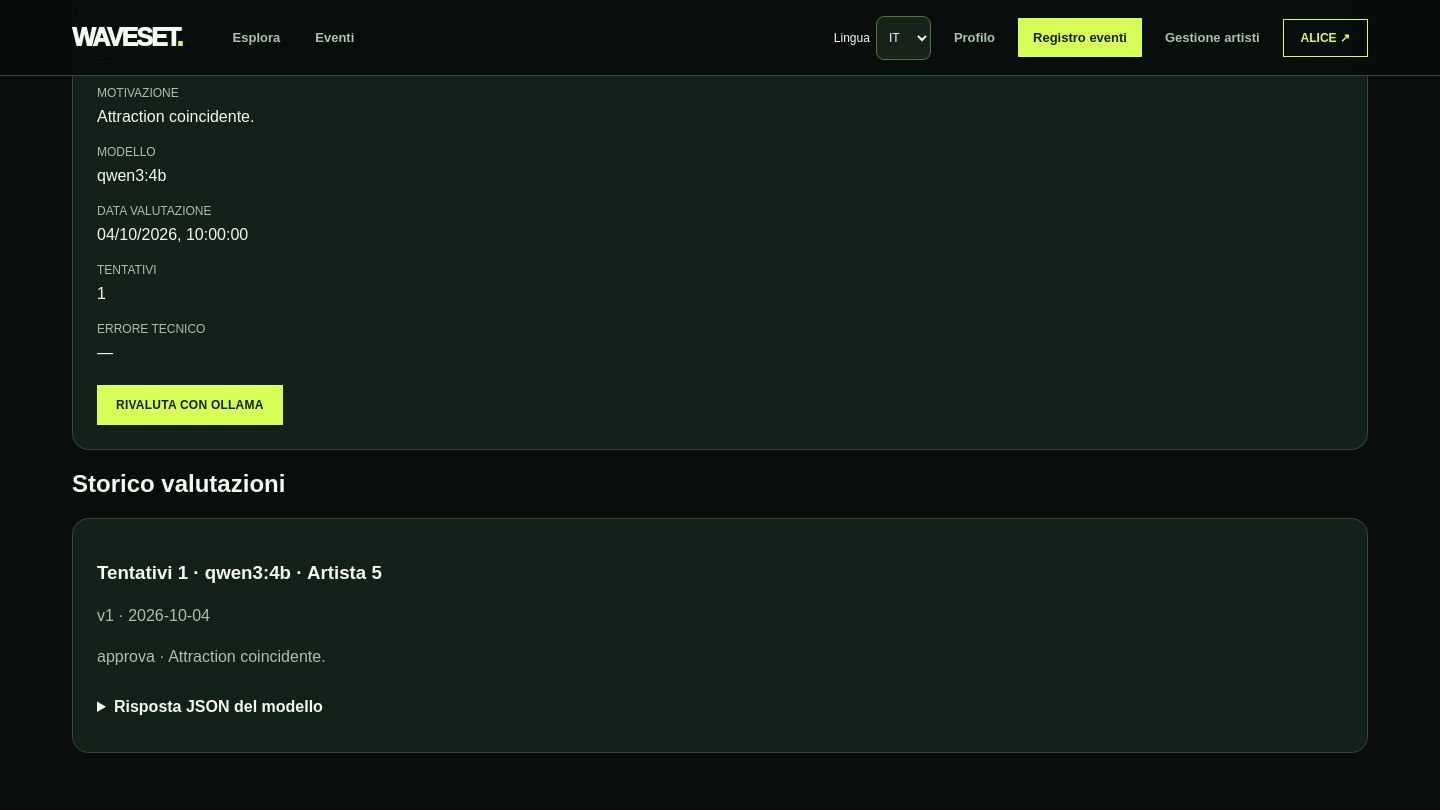
dettaglio con audit, rivalutazione 202 e CSRF, nessuna pubblicazione manuale
The width and height of the screenshot is (1440, 810).
(page scrolled)
Click the button "Rivaluta con Ollama": (190, 405) [97, 385, 283, 426]
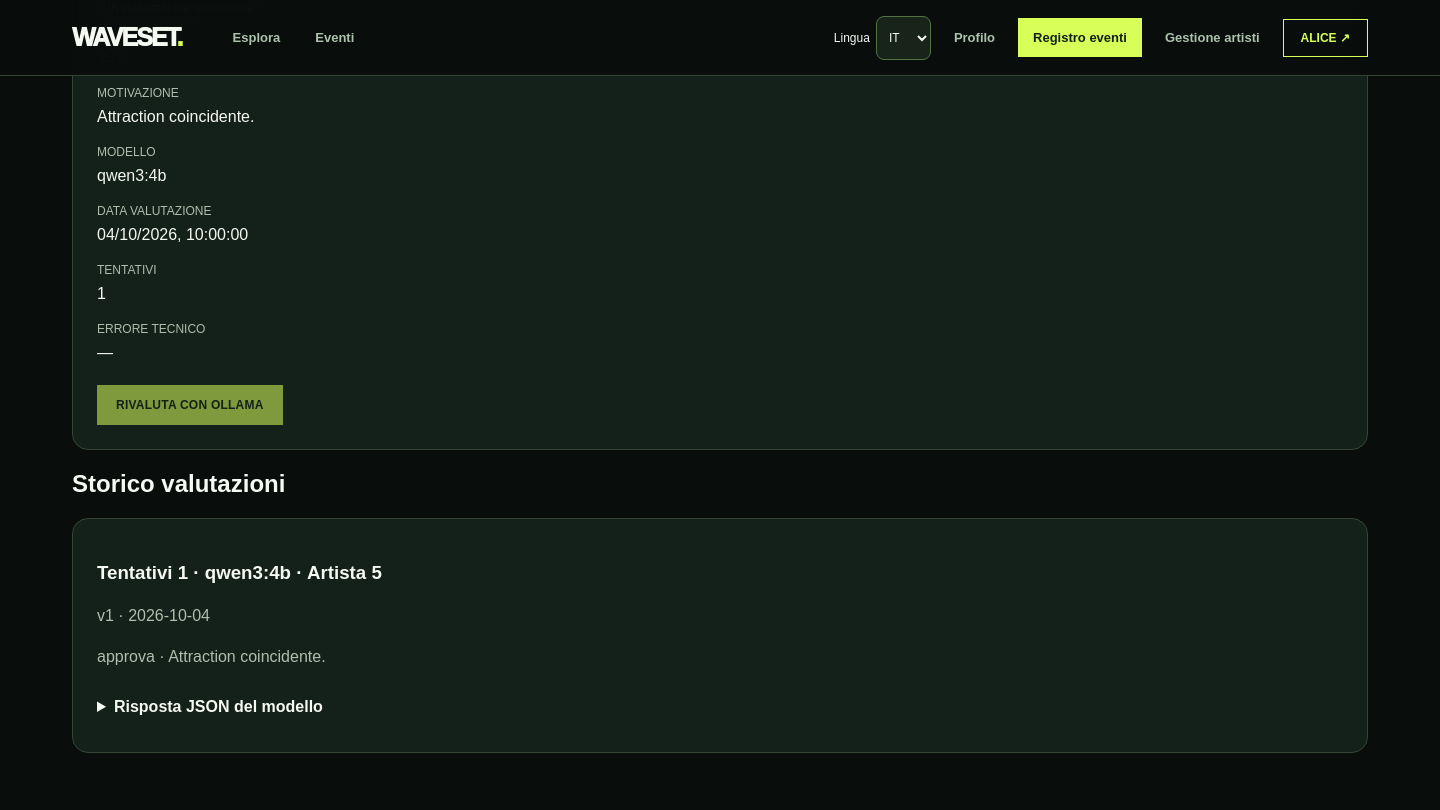
Check: the button "Rivaluta con Ollama" is disabled, box [97, 385, 283, 426]
